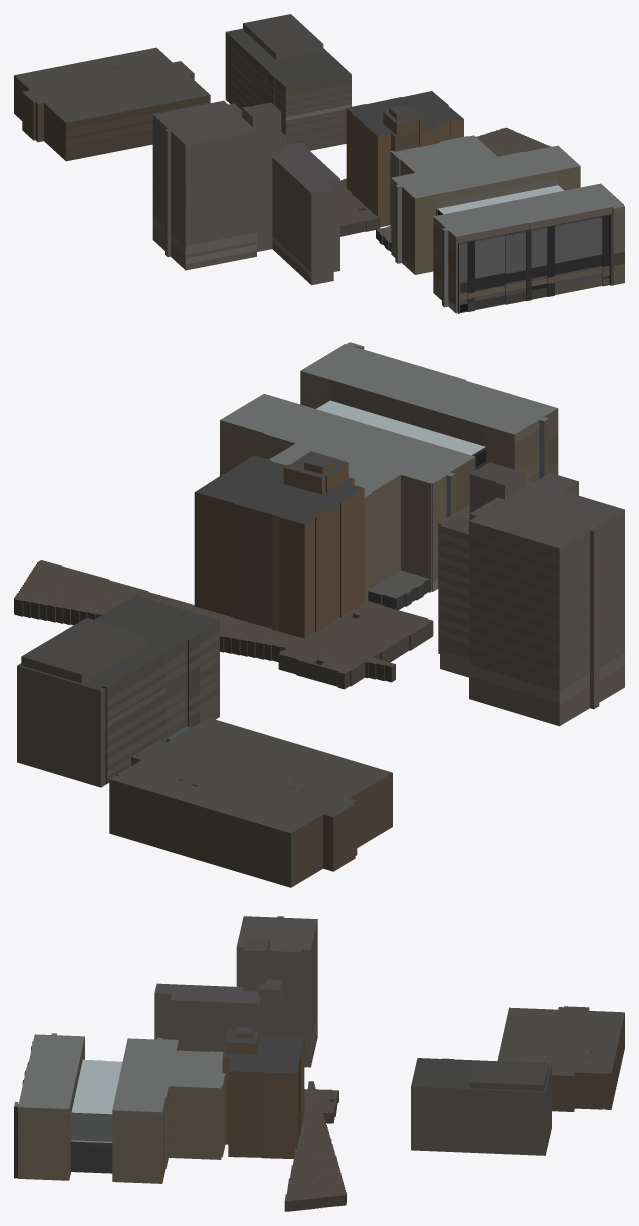
The model's file is t_1_-2.far.glb.
3 renders of one model, top to bottom at view 1: azimuth 30°, elevation 25°; view 2: azimuth 150°, elevation 25°; view 3: azimuth 270°, elevation 25°, orthographic. The views are drawn at different scales.
Parts seen in each view (by area): view 1: opaque; view 2: opaque; view 3: opaque.
Boxes of the visible parts, left/top/right/bottom form: opaque: left=14, top=14, right=624, bottom=313; opaque: left=14, top=342, right=624, bottom=887; opaque: left=14, top=916, right=624, bottom=1211.
Size of the model in its own units: 201 by 66.7 by 291.
1 material, 1 textured.
